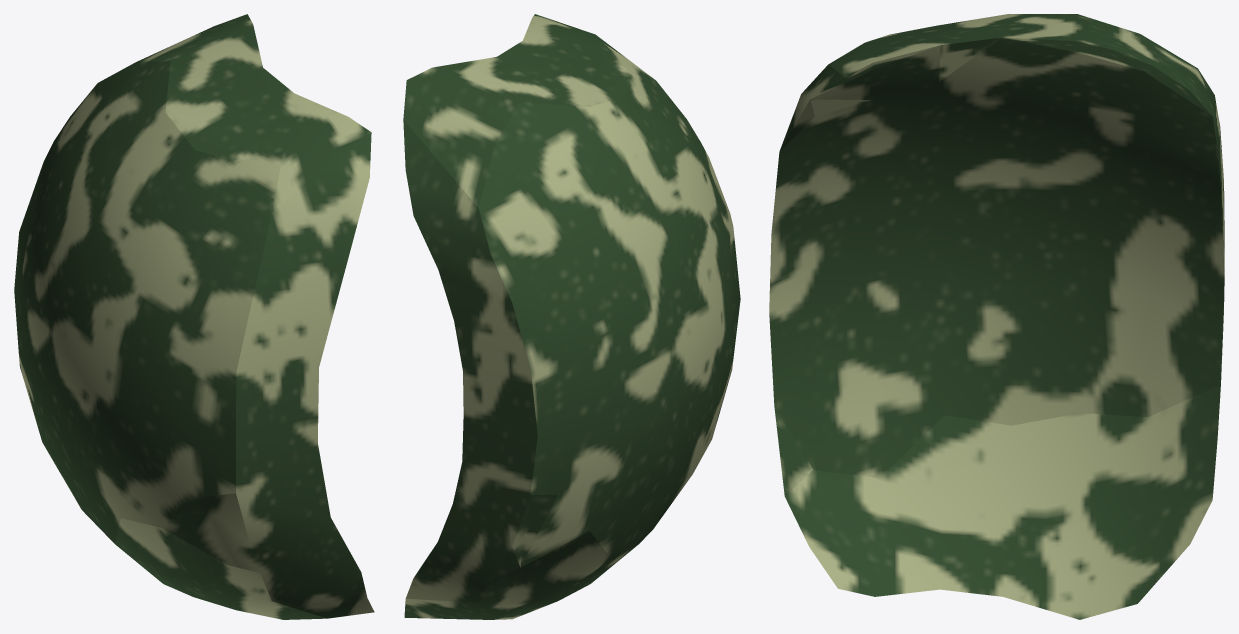
The model's file is link_body_05_composite.obj.
3 views of the same model, side by side, from view 1: azimuth 30°, elevation 25°; view 2: azimuth 150°, elevation 25°; view 3: azimuth 270°, elevation 25° (orthographic). The views are drawn at different scales.
Parts seen in each view (by area): view 1: link_body_05; view 2: link_body_05; view 3: link_body_05.
Boxes of the visible parts, x1,y1,x2,y2 form: link_body_05: (14,14,374,619); link_body_05: (403,14,740,619); link_body_05: (769,14,1224,619).
Size of the model in its own units: 8.83 by 19.46 by 13.88.
Materials: 1 (1 with a texture image).
